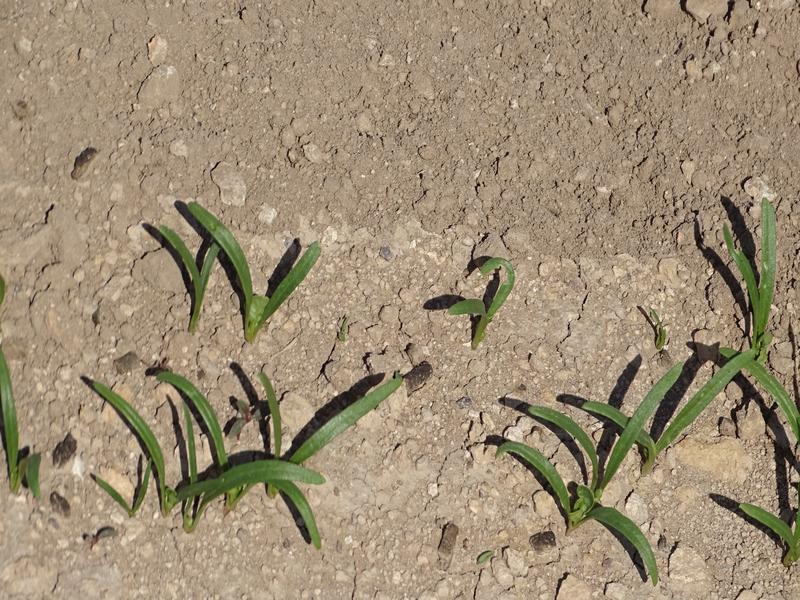Espinaca: (501, 213, 800, 578), (70, 355, 408, 535), (167, 208, 325, 335), (458, 256, 516, 340), (2, 351, 23, 496)
